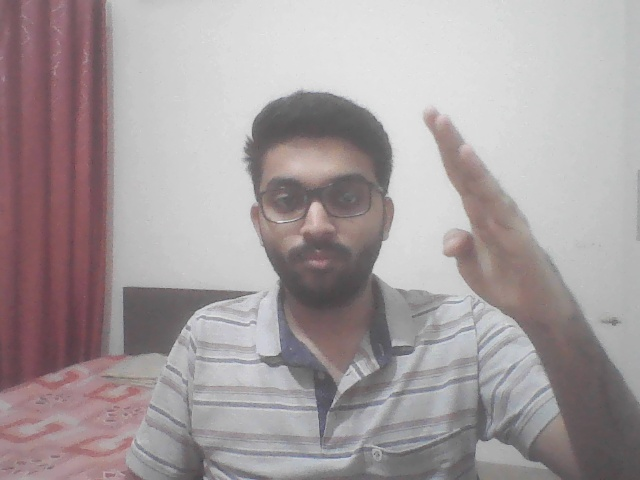hello: (400, 76, 591, 370)
